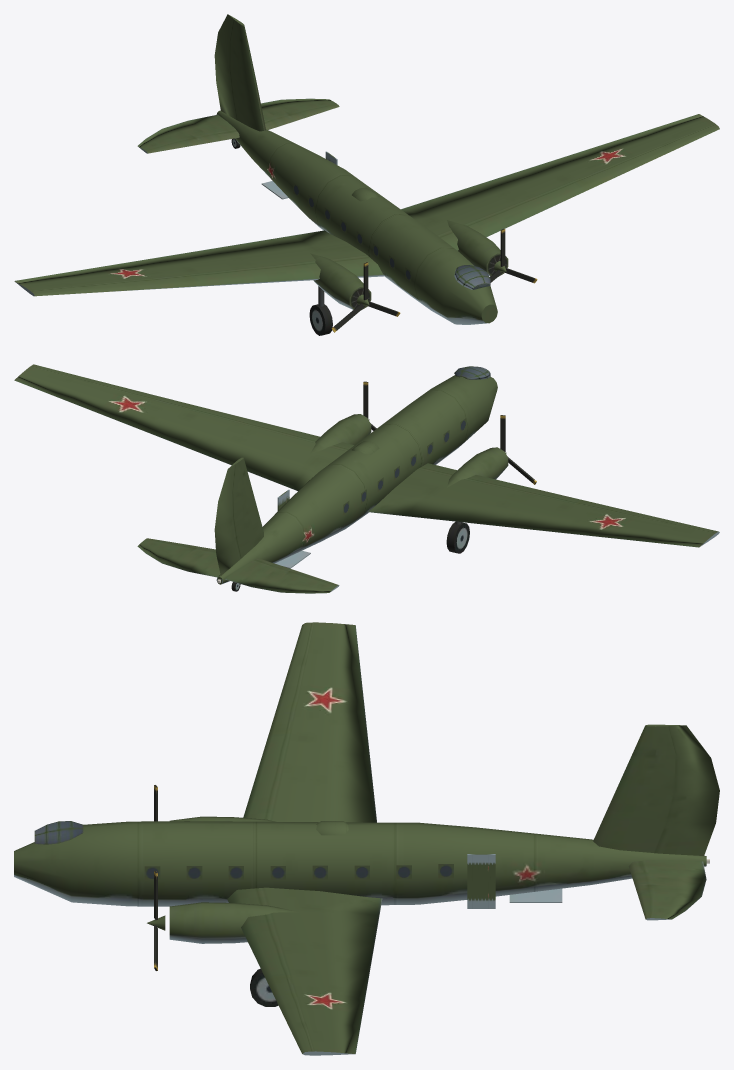
Rendered from airTransport.glb.
3 renders of one model, top to bottom at view 1: azimuth 30°, elevation 25°; view 2: azimuth 150°, elevation 25°; view 3: azimuth 270°, elevation 25°, orthographic. The views are drawn at different scales.
Visible parts, largest first — view 1: fuselage, prop_right_pales, hublots, wheel_right; view 2: fuselage, hublots, wheel_right, prop_right_pales; view 3: fuselage, hublots, cabin_door.
Boxes of the visible parts, x1,y1,x2,y2 form: fuselage: (14, 14, 719, 324); prop_right_pales: (331, 262, 400, 332); hublots: (293, 182, 411, 282); wheel_right: (309, 304, 332, 335); fuselage: (14, 364, 719, 593); hublots: (343, 418, 466, 515); wheel_right: (446, 522, 469, 553); prop_right_pales: (500, 415, 536, 484); fuselage: (14, 622, 719, 1055); hublots: (144, 864, 453, 880); cabin_door: (467, 854, 495, 908).
Bounding box in the file's own units: 28.81 × 7.4 × 20.03.
6 materials, 5 textured.
